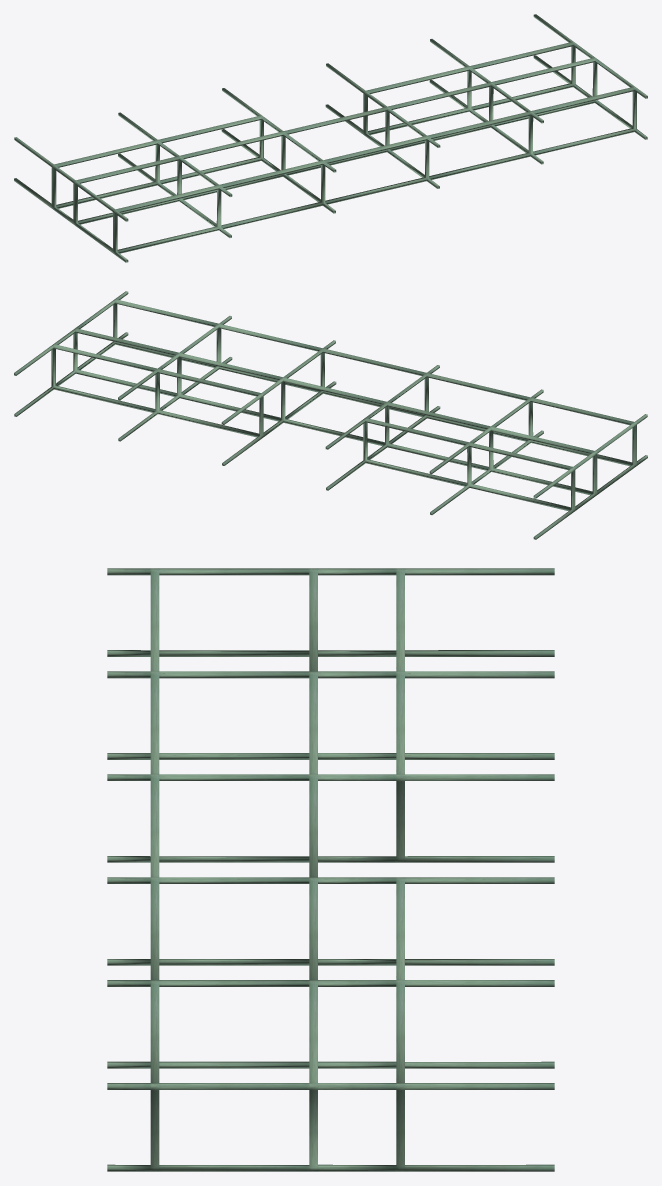
The model's file is rack.glb.
The picture shows the model from 3 angles, top to bottom: view 1: azimuth 30°, elevation 25°; view 2: azimuth 150°, elevation 25°; view 3: azimuth 270°, elevation 25°; orthographic projection. The views are drawn at different scales.
Parts seen in each view (by area): view 1: Rack2; view 2: Rack2; view 3: Rack2.
Part boxes in pixels (x1,y1,x2,y2): Rack2: (14, 14, 647, 262); Rack2: (14, 291, 647, 539); Rack2: (107, 568, 554, 1171).
Bounding box in the file's own units: 60.93 × 5.27 × 22.62.
Materials: 1 (1 with a texture image).
